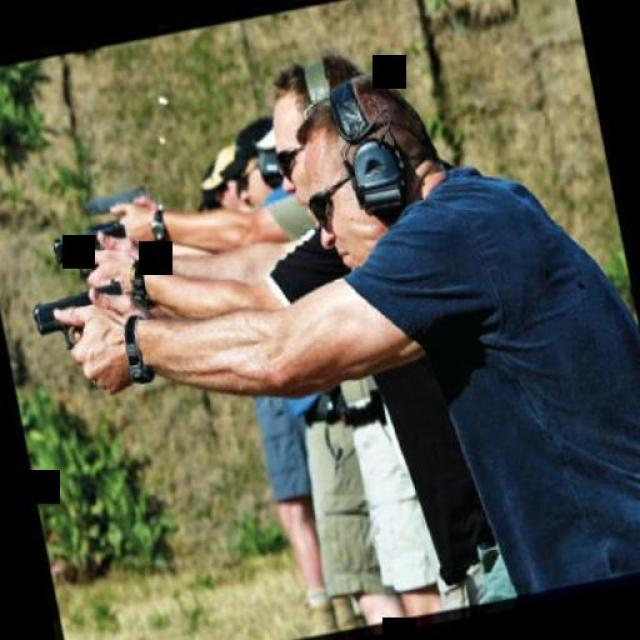gun: (27, 275, 132, 356), (78, 182, 158, 266), (46, 215, 134, 286)
